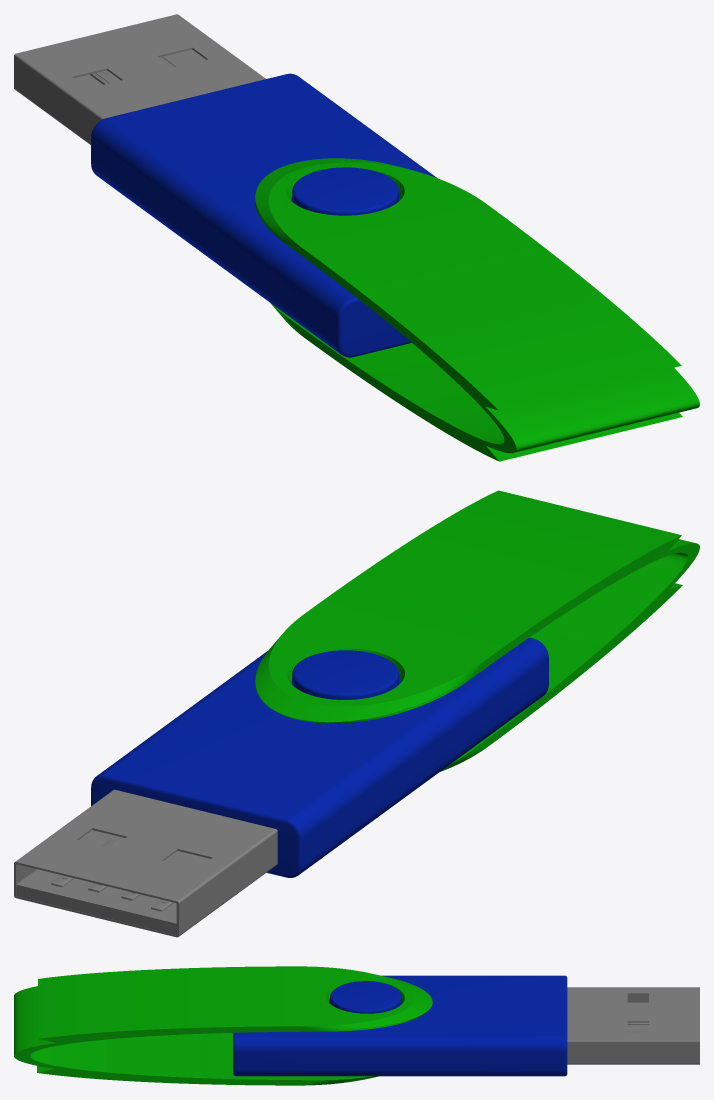
File: usb.fbx
3 renders of one model, top to bottom at view 1: azimuth 30°, elevation 25°; view 2: azimuth 150°, elevation 25°; view 3: azimuth 270°, elevation 25°, orthographic. The views are drawn at different scales.
Visible parts, largest first — view 1: Arc001, Rectangle001, Rectangle002, ChamferCyl001; view 2: Arc001, Rectangle001, Rectangle002, Box001, ChamferCyl001; view 3: Arc001, Rectangle001, Rectangle002, ChamferCyl001.
Part boxes in pixels (x1,y1,x2,y2): Arc001: (255,158,699,461); Rectangle001: (91,73,436,357); Rectangle002: (14,14,265,144); ChamferCyl001: (292,167,399,215); Arc001: (255,490,699,771); Rectangle001: (91,637,548,877); Rectangle002: (14,789,277,937); Box001: (16,830,210,934); ChamferCyl001: (292,650,399,699); Arc001: (14,966,432,1085); Rectangle001: (233,975,567,1076); Rectangle002: (567,987,699,1064); ChamferCyl001: (330,981,401,1013).
Size of the model in its own units: 25.48 by 10.56 by 107.
